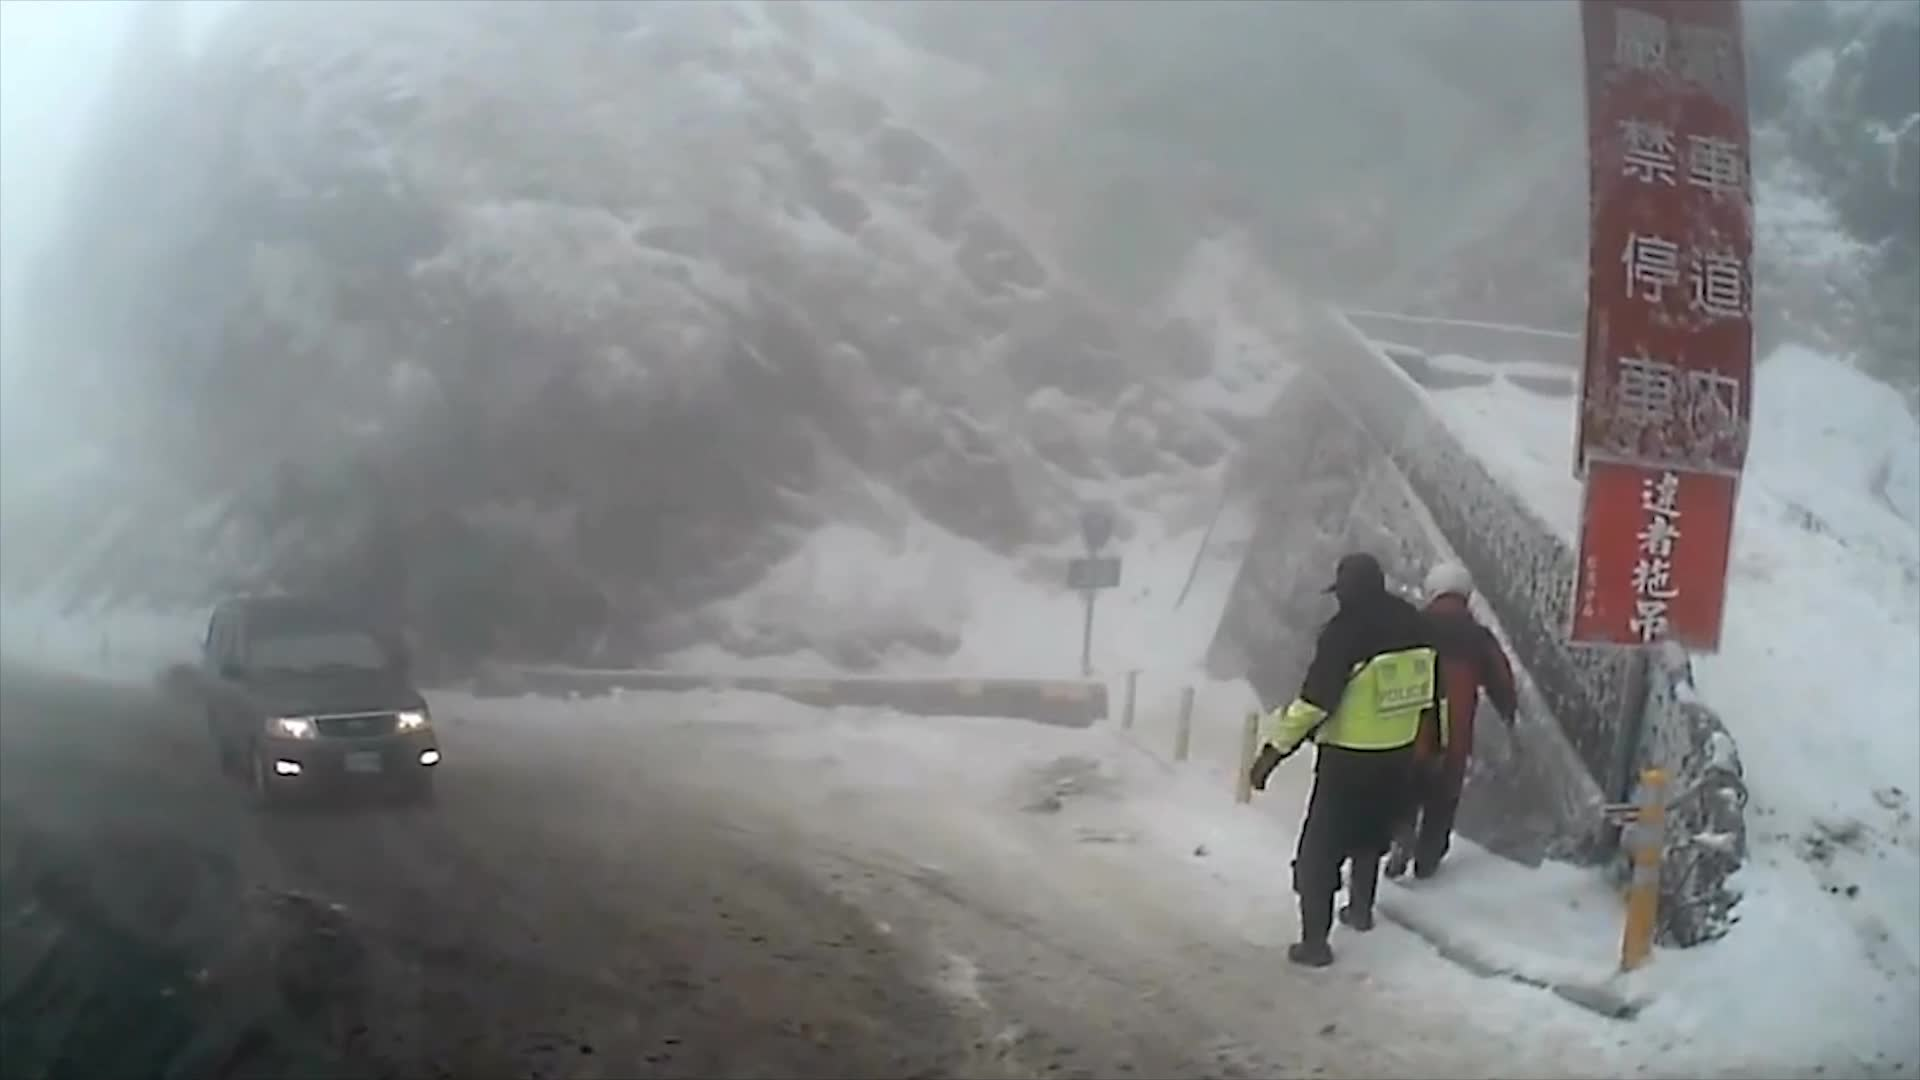pedestrian: (1254, 550, 1442, 965), (1379, 561, 1522, 880)
vehicle: (200, 597, 442, 811)
